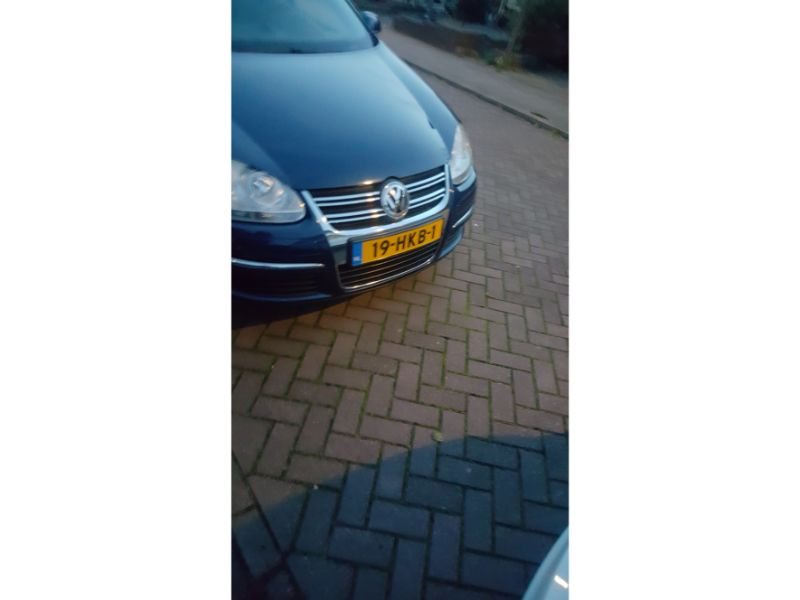kenteken: (353, 218, 448, 265)
